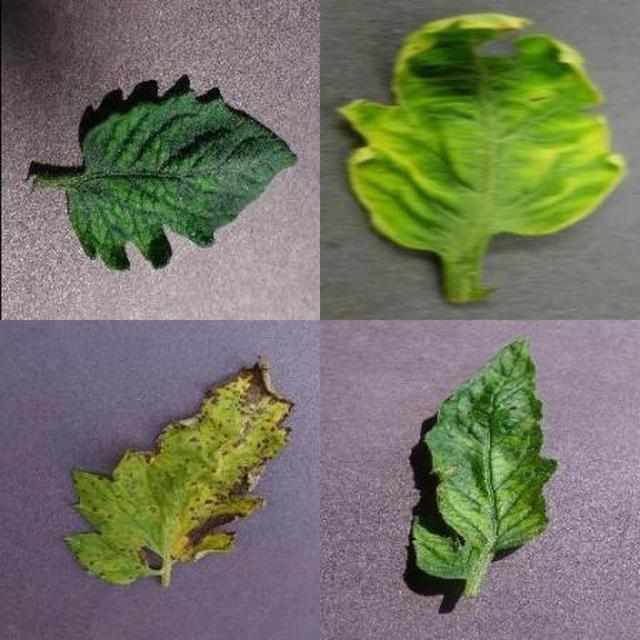Mosaic Virus Leaf: (216, 191, 640, 640)
